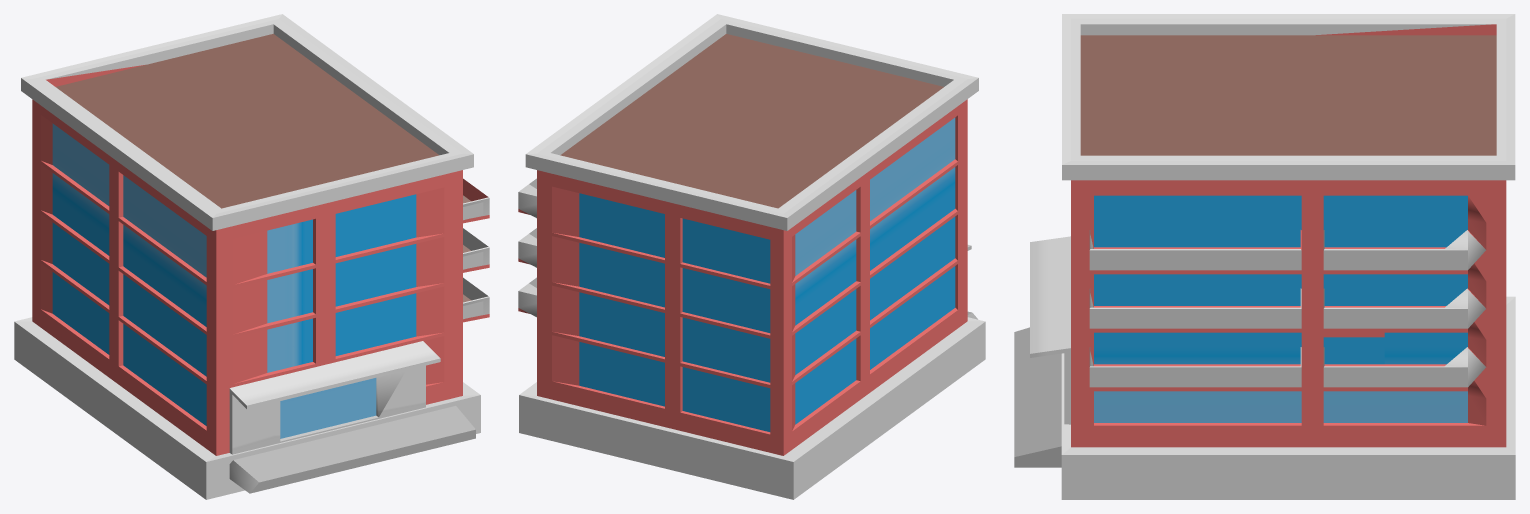
Rendered from RedBuilding6x8x7.fbx.
3 renders of one model, left to right at view 1: azimuth 30°, elevation 25°; view 2: azimuth 150°, elevation 25°; view 3: azimuth 270°, elevation 25°, orthographic. The views are drawn at different scales.
Parts seen in each view (by area): view 1: House; view 2: House; view 3: House.
Part boxes in pixels (left/top/right/bottom): House: left=14, top=14, right=489, bottom=499; House: left=518, top=14, right=985, bottom=499; House: left=1014, top=14, right=1515, bottom=499.
Size of the model in its own units: 7.82 by 7.09 by 9.73.
1 material, 1 textured.
